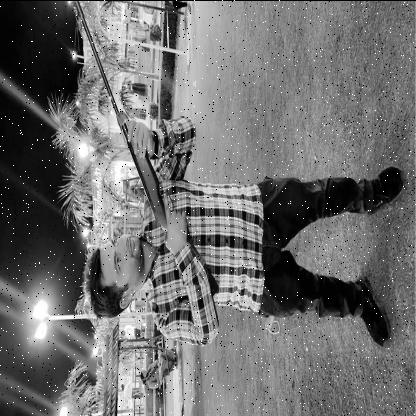rifle: (75, 1, 223, 311)
